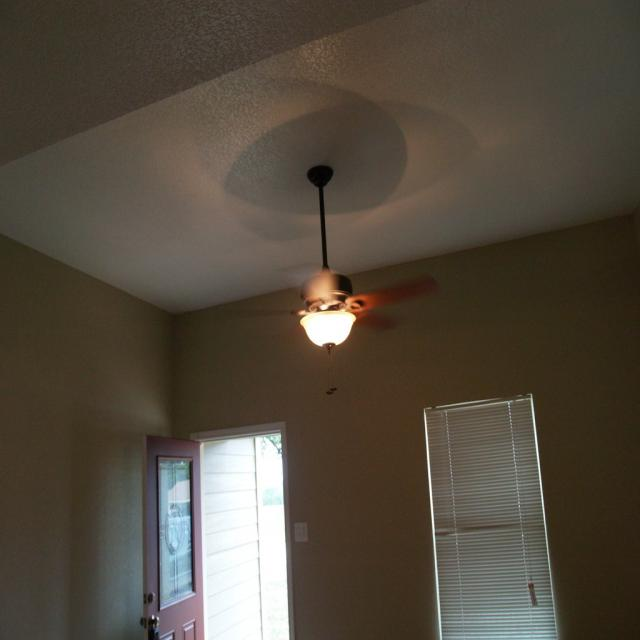Bulb: (207, 158, 437, 398), (220, 165, 440, 396)
